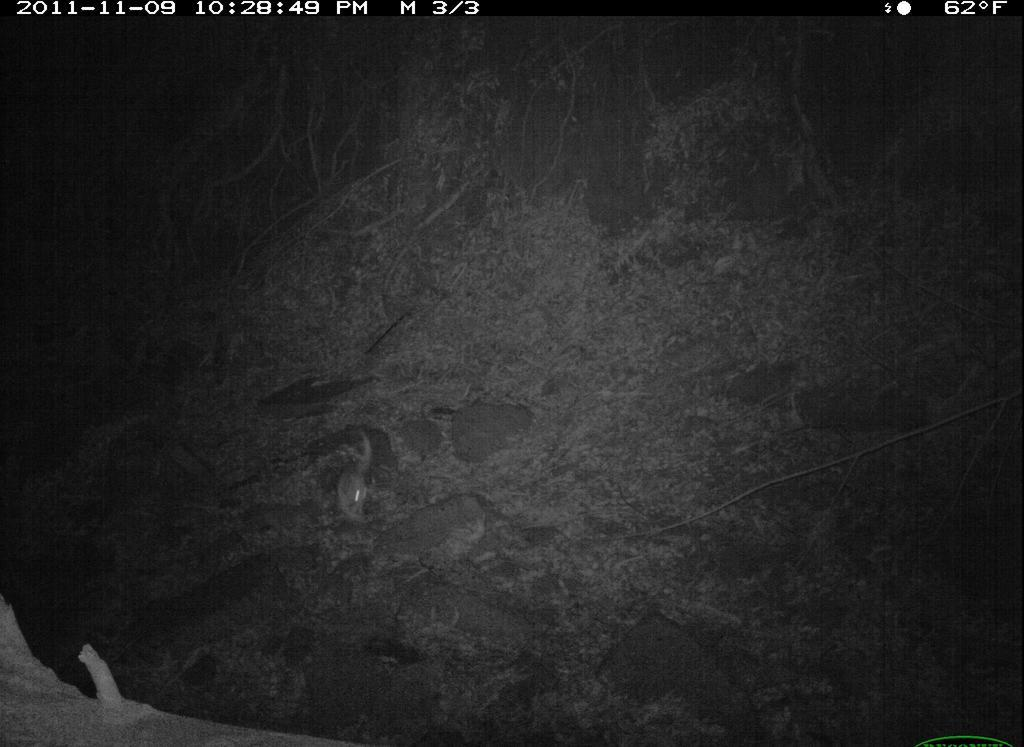cat: (317, 436, 385, 536)
